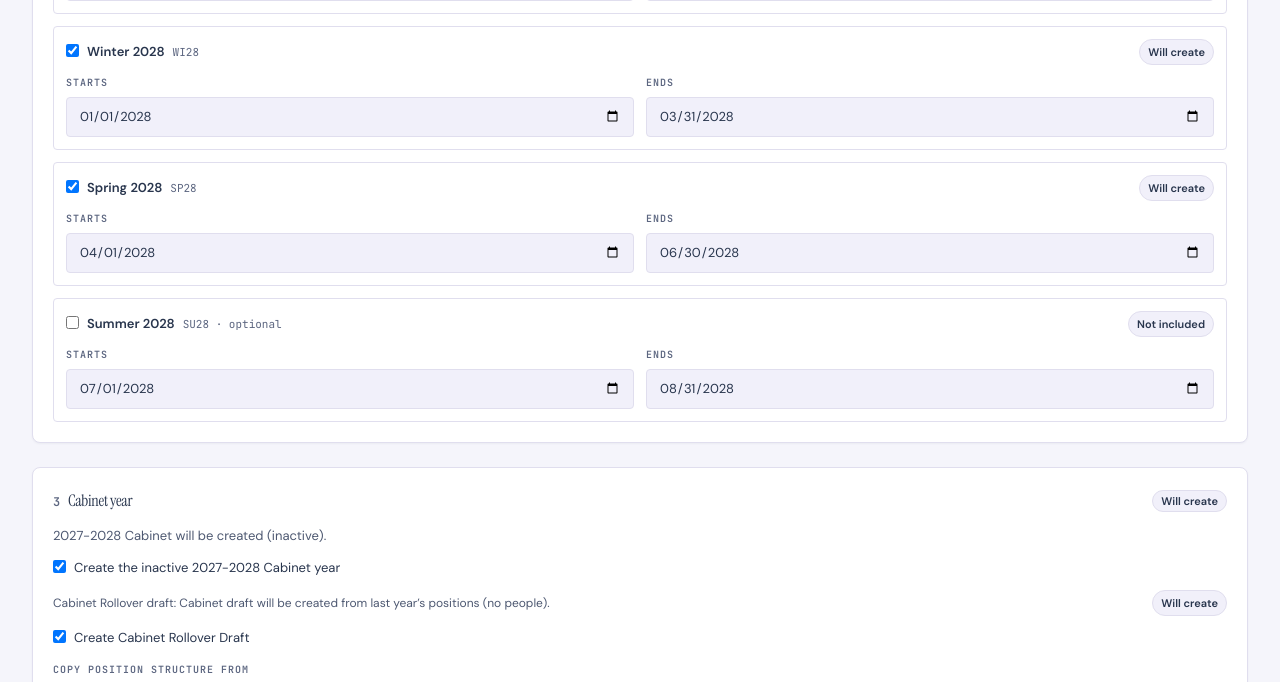
creates setup through the repository with the chosen terms and reports what happened
This screenshot has width=1280, height=682.
(page scrolled)
What coordinates should you click on to do the following:
click the checkbox labelled "Summer 2028SU28 · optional"
I would click on:
 (72, 322)
Its box is 66,316 -> 79,329.
(page scrolled)
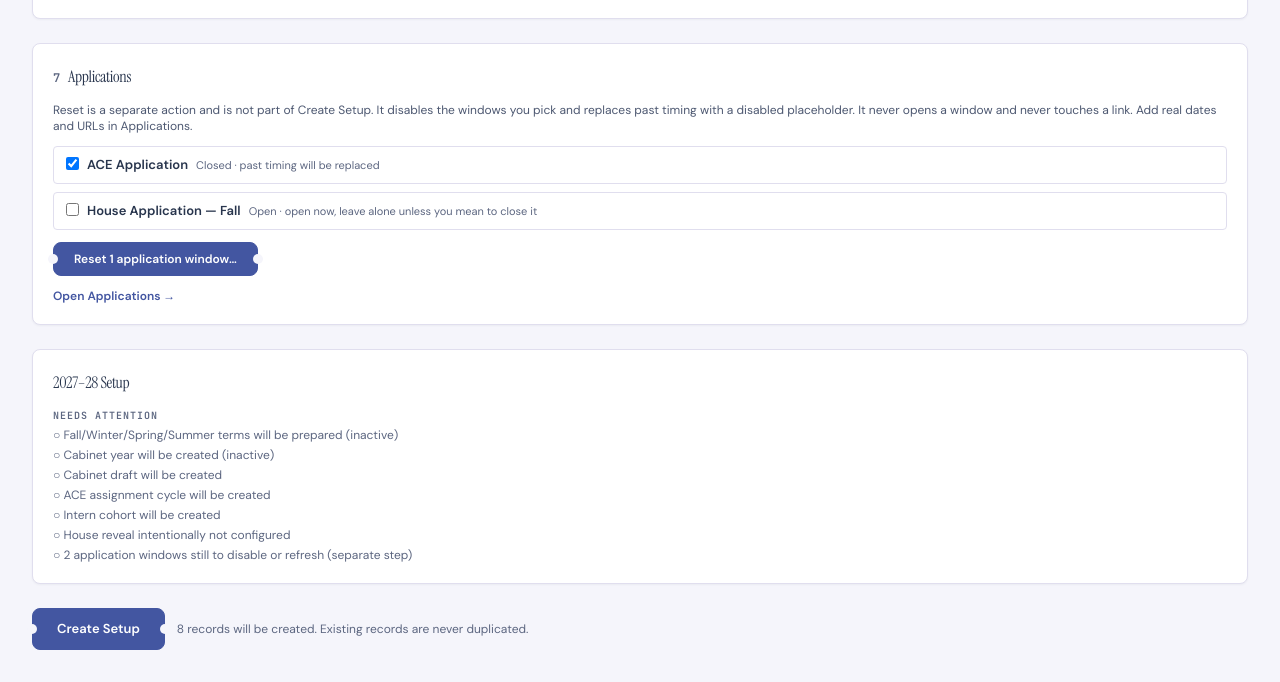
What coordinates should you click on to do the following:
click the button "Create Setup"
I would click on:
 (98, 629)
Its box is 32,608 -> 165,650.
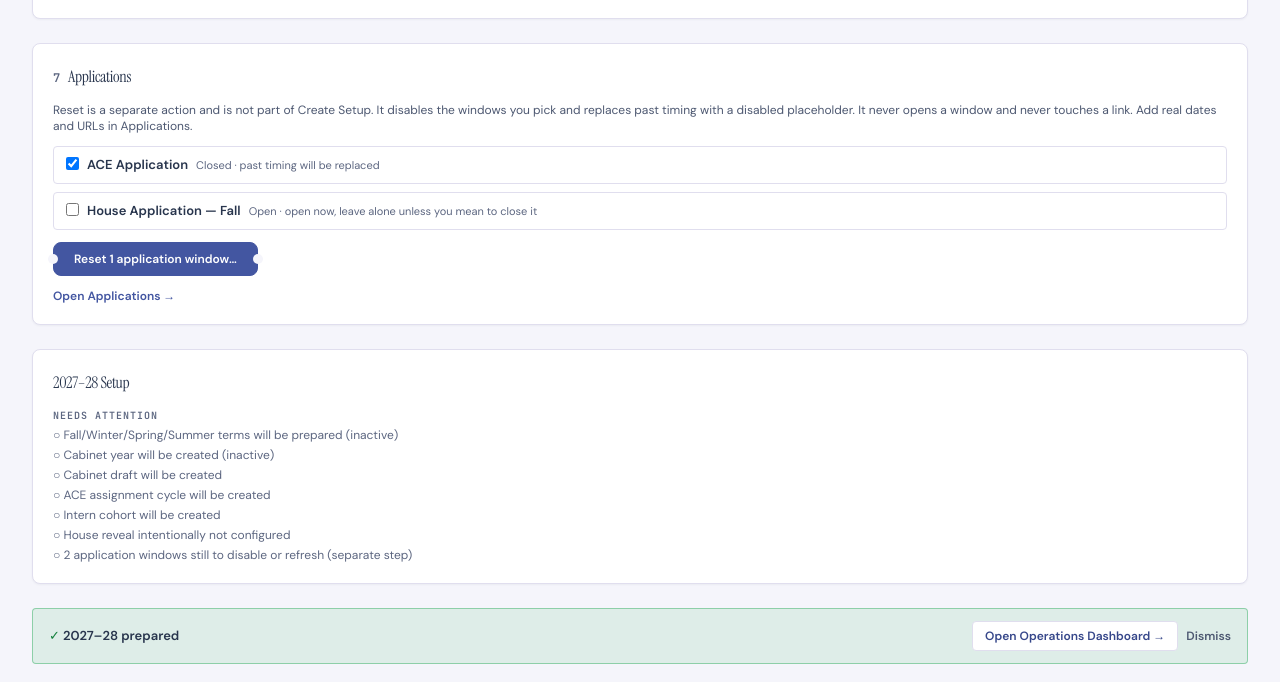
Expected: the text "2027–28 prepared" is shown, 63,627 -> 179,644
